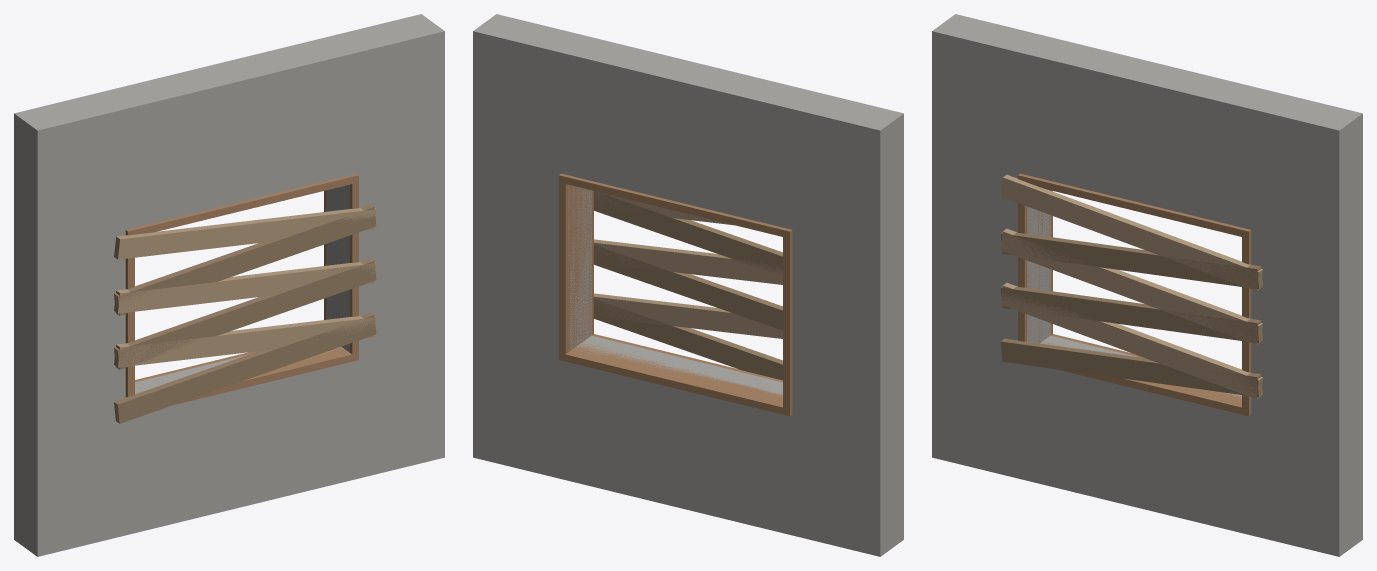
The model's file is kit_barricade_window.glb.
3 renders of one model, left to right at view 1: azimuth 30°, elevation 25°; view 2: azimuth 150°, elevation 25°; view 3: azimuth 330°, elevation 25°, orthographic.
Visible parts, largest first — view 1: frame, plank_0, plank_2, plank_5, plank_1, plank_4, plank_3; view 2: frame, plank_2, plank_4, plank_0, plank_1, plank_3, plank_5; view 3: frame, plank_5, plank_3, plank_1, plank_2, plank_4, plank_0.
Part boxes in pixels (x1=…): frame: x1=14, y1=14, x2=444, y2=556; plank_0: x1=114, y1=312, x2=376, y2=423; plank_2: x1=114, y1=258, x2=376, y2=369; plank_5: x1=114, y1=208, x2=376, y2=259; plank_1: x1=114, y1=316, x2=376, y2=367; plank_4: x1=114, y1=204, x2=376, y2=315; plank_3: x1=114, y1=262, x2=376, y2=313; frame: x1=473, y1=14, x2=903, y2=556; plank_2: x1=593, y1=245, x2=782, y2=330; plank_4: x1=593, y1=191, x2=782, y2=275; plank_0: x1=593, y1=299, x2=782, y2=380; plank_1: x1=593, y1=293, x2=782, y2=338; plank_3: x1=593, y1=239, x2=782, y2=284; plank_5: x1=593, y1=191, x2=733, y2=225; frame: x1=932, y1=14, x2=1362, y2=556; plank_5: x1=1000, y1=174, x2=1262, y2=291; plank_3: x1=1000, y1=228, x2=1262, y2=345; plank_1: x1=1000, y1=282, x2=1262, y2=399; plank_2: x1=1000, y1=286, x2=1262, y2=343; plank_4: x1=1000, y1=232, x2=1262, y2=289; plank_0: x1=1000, y1=338, x2=1262, y2=397.
Bounding box in the file's own units: 3 × 3 × 0.405.
